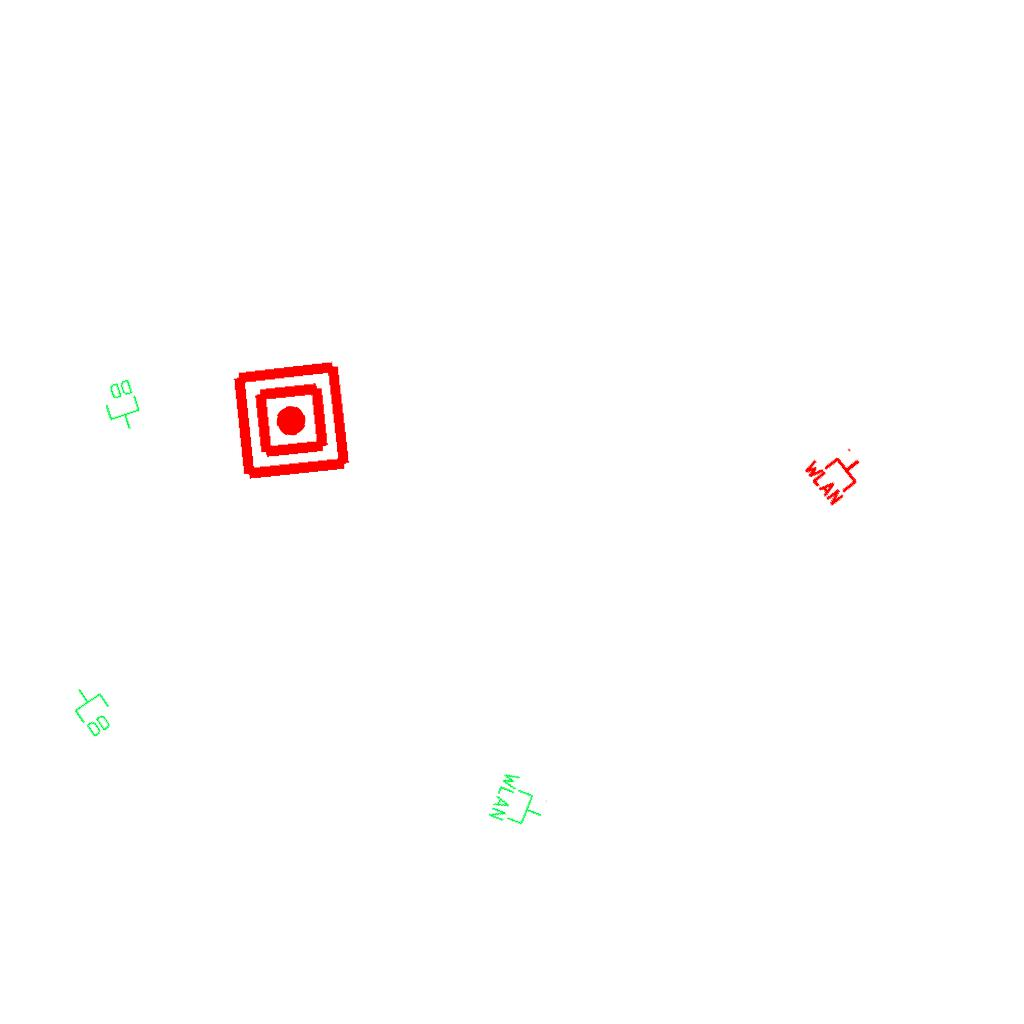Datenanschluss_zweifach: (64, 679, 121, 741), (98, 376, 147, 436)
NAM-Nichtautomatischer_Melder: (229, 358, 354, 483)
WLAN: (800, 435, 874, 509), (486, 768, 554, 836)
